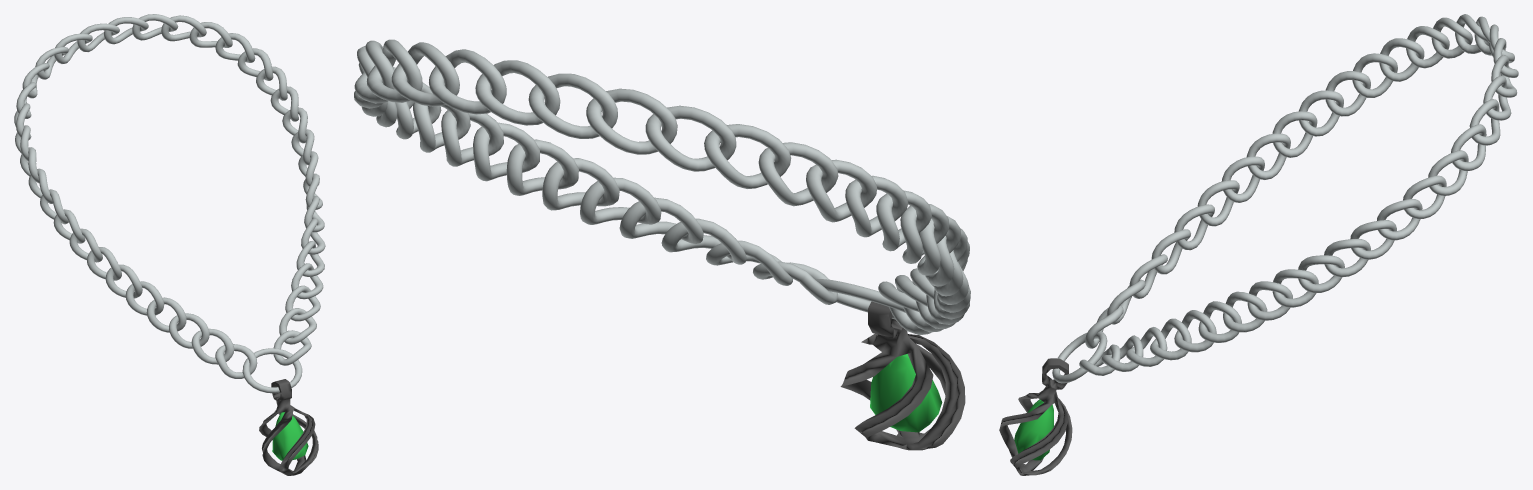
Rendered from necklace_02.glb.
3 views of the same model, side by side, from view 1: azimuth 30°, elevation 25°; view 2: azimuth 150°, elevation 25°; view 3: azimuth 270°, elevation 25° (orthographic). The views are drawn at different scales.
Visible parts, largest first — view 1: Object_8; view 2: Object_8; view 3: Object_8.
Part boxes in pixels (<box>): Object_8: <box>14,14,325,475</box>; Object_8: <box>354,39,970,450</box>; Object_8: <box>999,14,1518,475</box>.
Size of the model in its own units: 149 by 168 by 187.
Materials: 3 (1 with a texture image).
